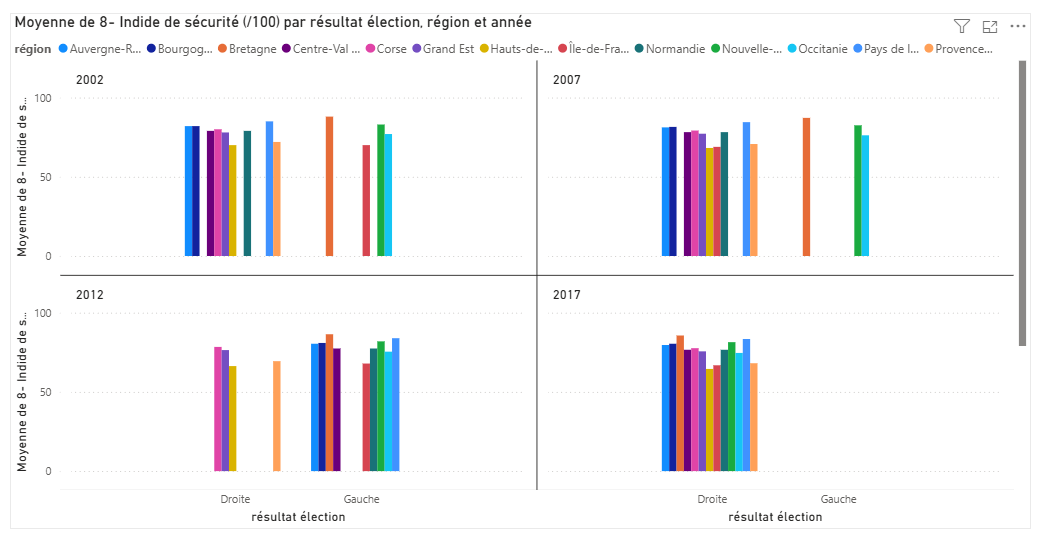

The dashboard page shown, as its layout file describes it:
{"tool":"powerbi","page":{"name":"Indice insécurité par résultat election par région","canvas":[1280,720],"ordinal":8},"visuals":[{"type":"clusteredColumnChart","fields":{"Y":["Avg(Données élections.8- Indide de sécurité (/100))"],"Category":["Données élections.résultat élection"],"Rows":["Données élections.année"],"Series":["Données élections.région"]},"box":[77.9,62.8,1134.7,573.9],"z":0}]}

Visuals, with their boxes on the page's 1280x720 design canvas (x1, y1, x2, y2). These are canvas units, not pixel positions in the 1050x556 screenshot, which may show the page scaled, cropped or inside an application window:
clusteredColumnChart - Avg(Données élections.8- Indide de sécurité (/100)) x Données élections.résultat élection: left=78, top=63, right=1213, bottom=637
